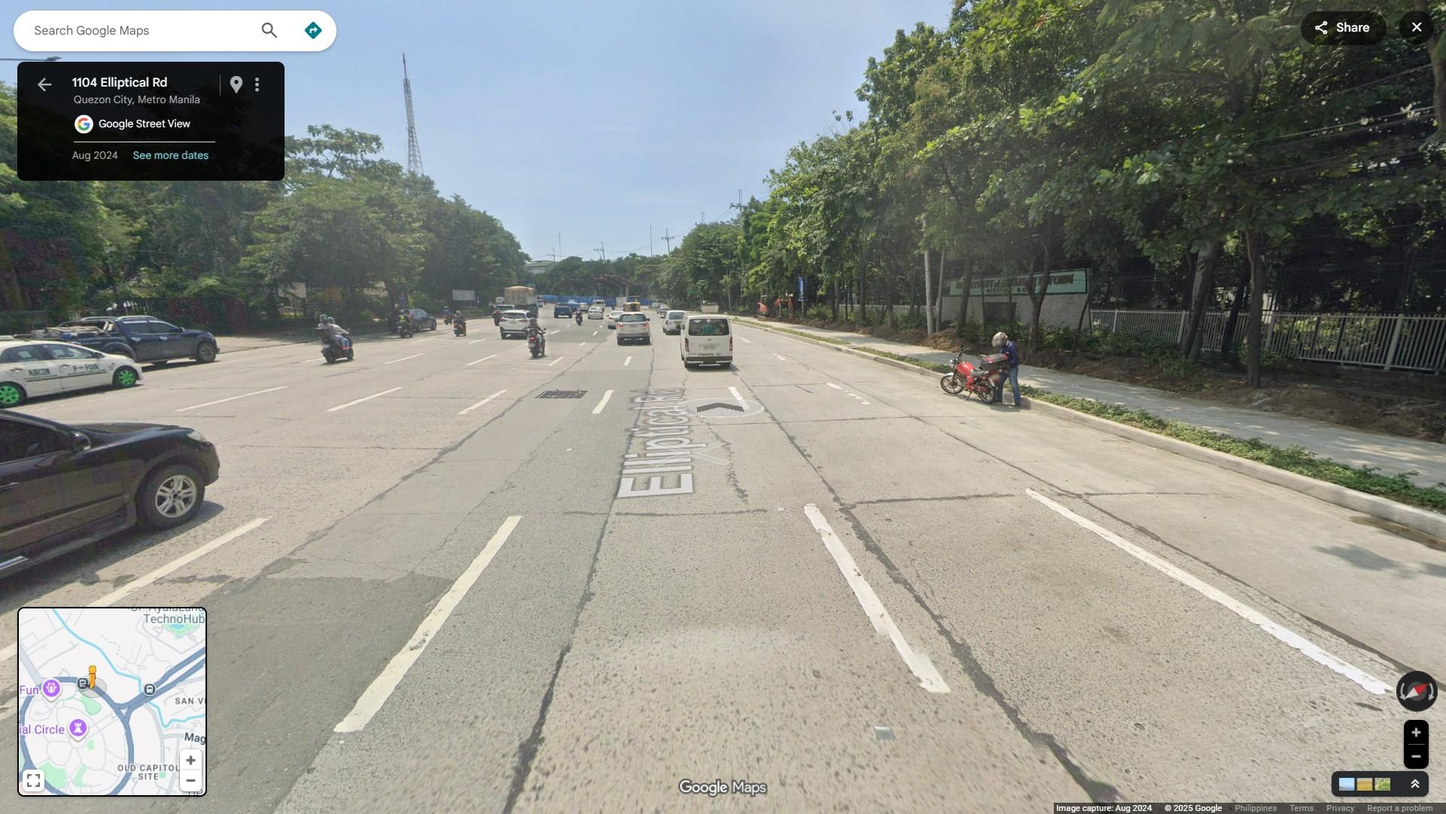pedestrian: (990, 331, 1020, 408)
